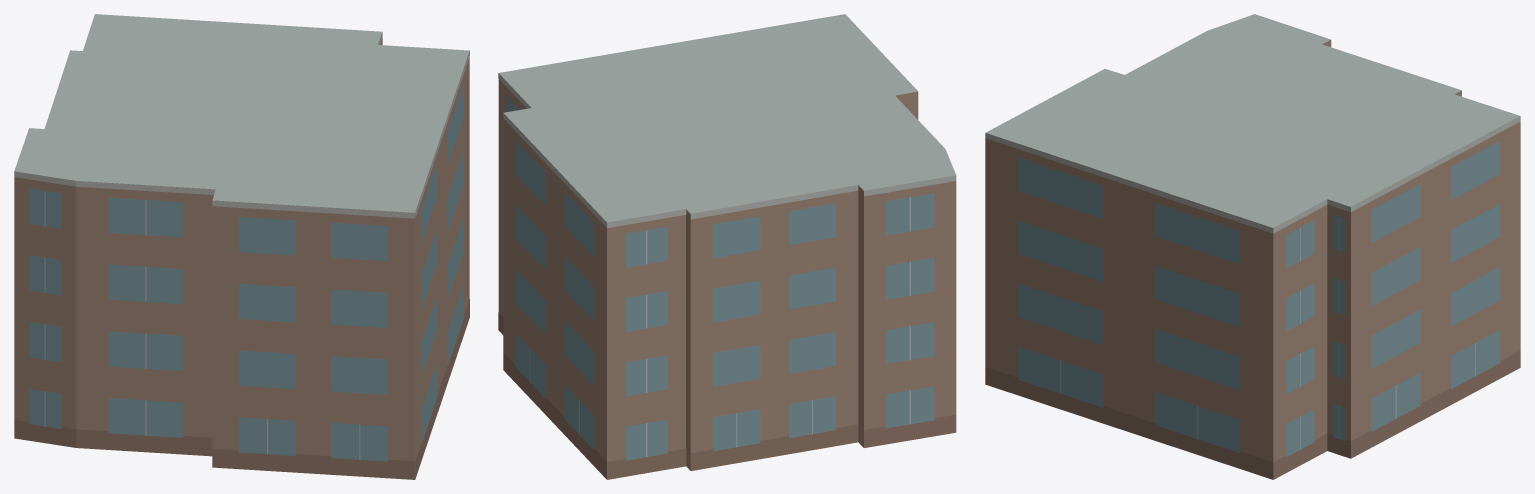
File: survey-upis-32824420.glb
3 views of the same model, side by side, from view 1: azimuth 30°, elevation 25°; view 2: azimuth 150°, elevation 25°; view 3: azimuth 270°, elevation 25° (orthographic). The views are drawn at different scales.
Visible parts, largest first — view 1: survey-upis-32824420.tmp; view 2: survey-upis-32824420.tmp; view 3: survey-upis-32824420.tmp.
Part boxes in pixels (box(x1,y1,x2,y2)): survey-upis-32824420.tmp: box(14, 14, 469, 479); survey-upis-32824420.tmp: box(498, 14, 956, 479); survey-upis-32824420.tmp: box(985, 14, 1520, 479).
Bounding box in the file's own units: 20.43 × 11.2 × 21.58.
